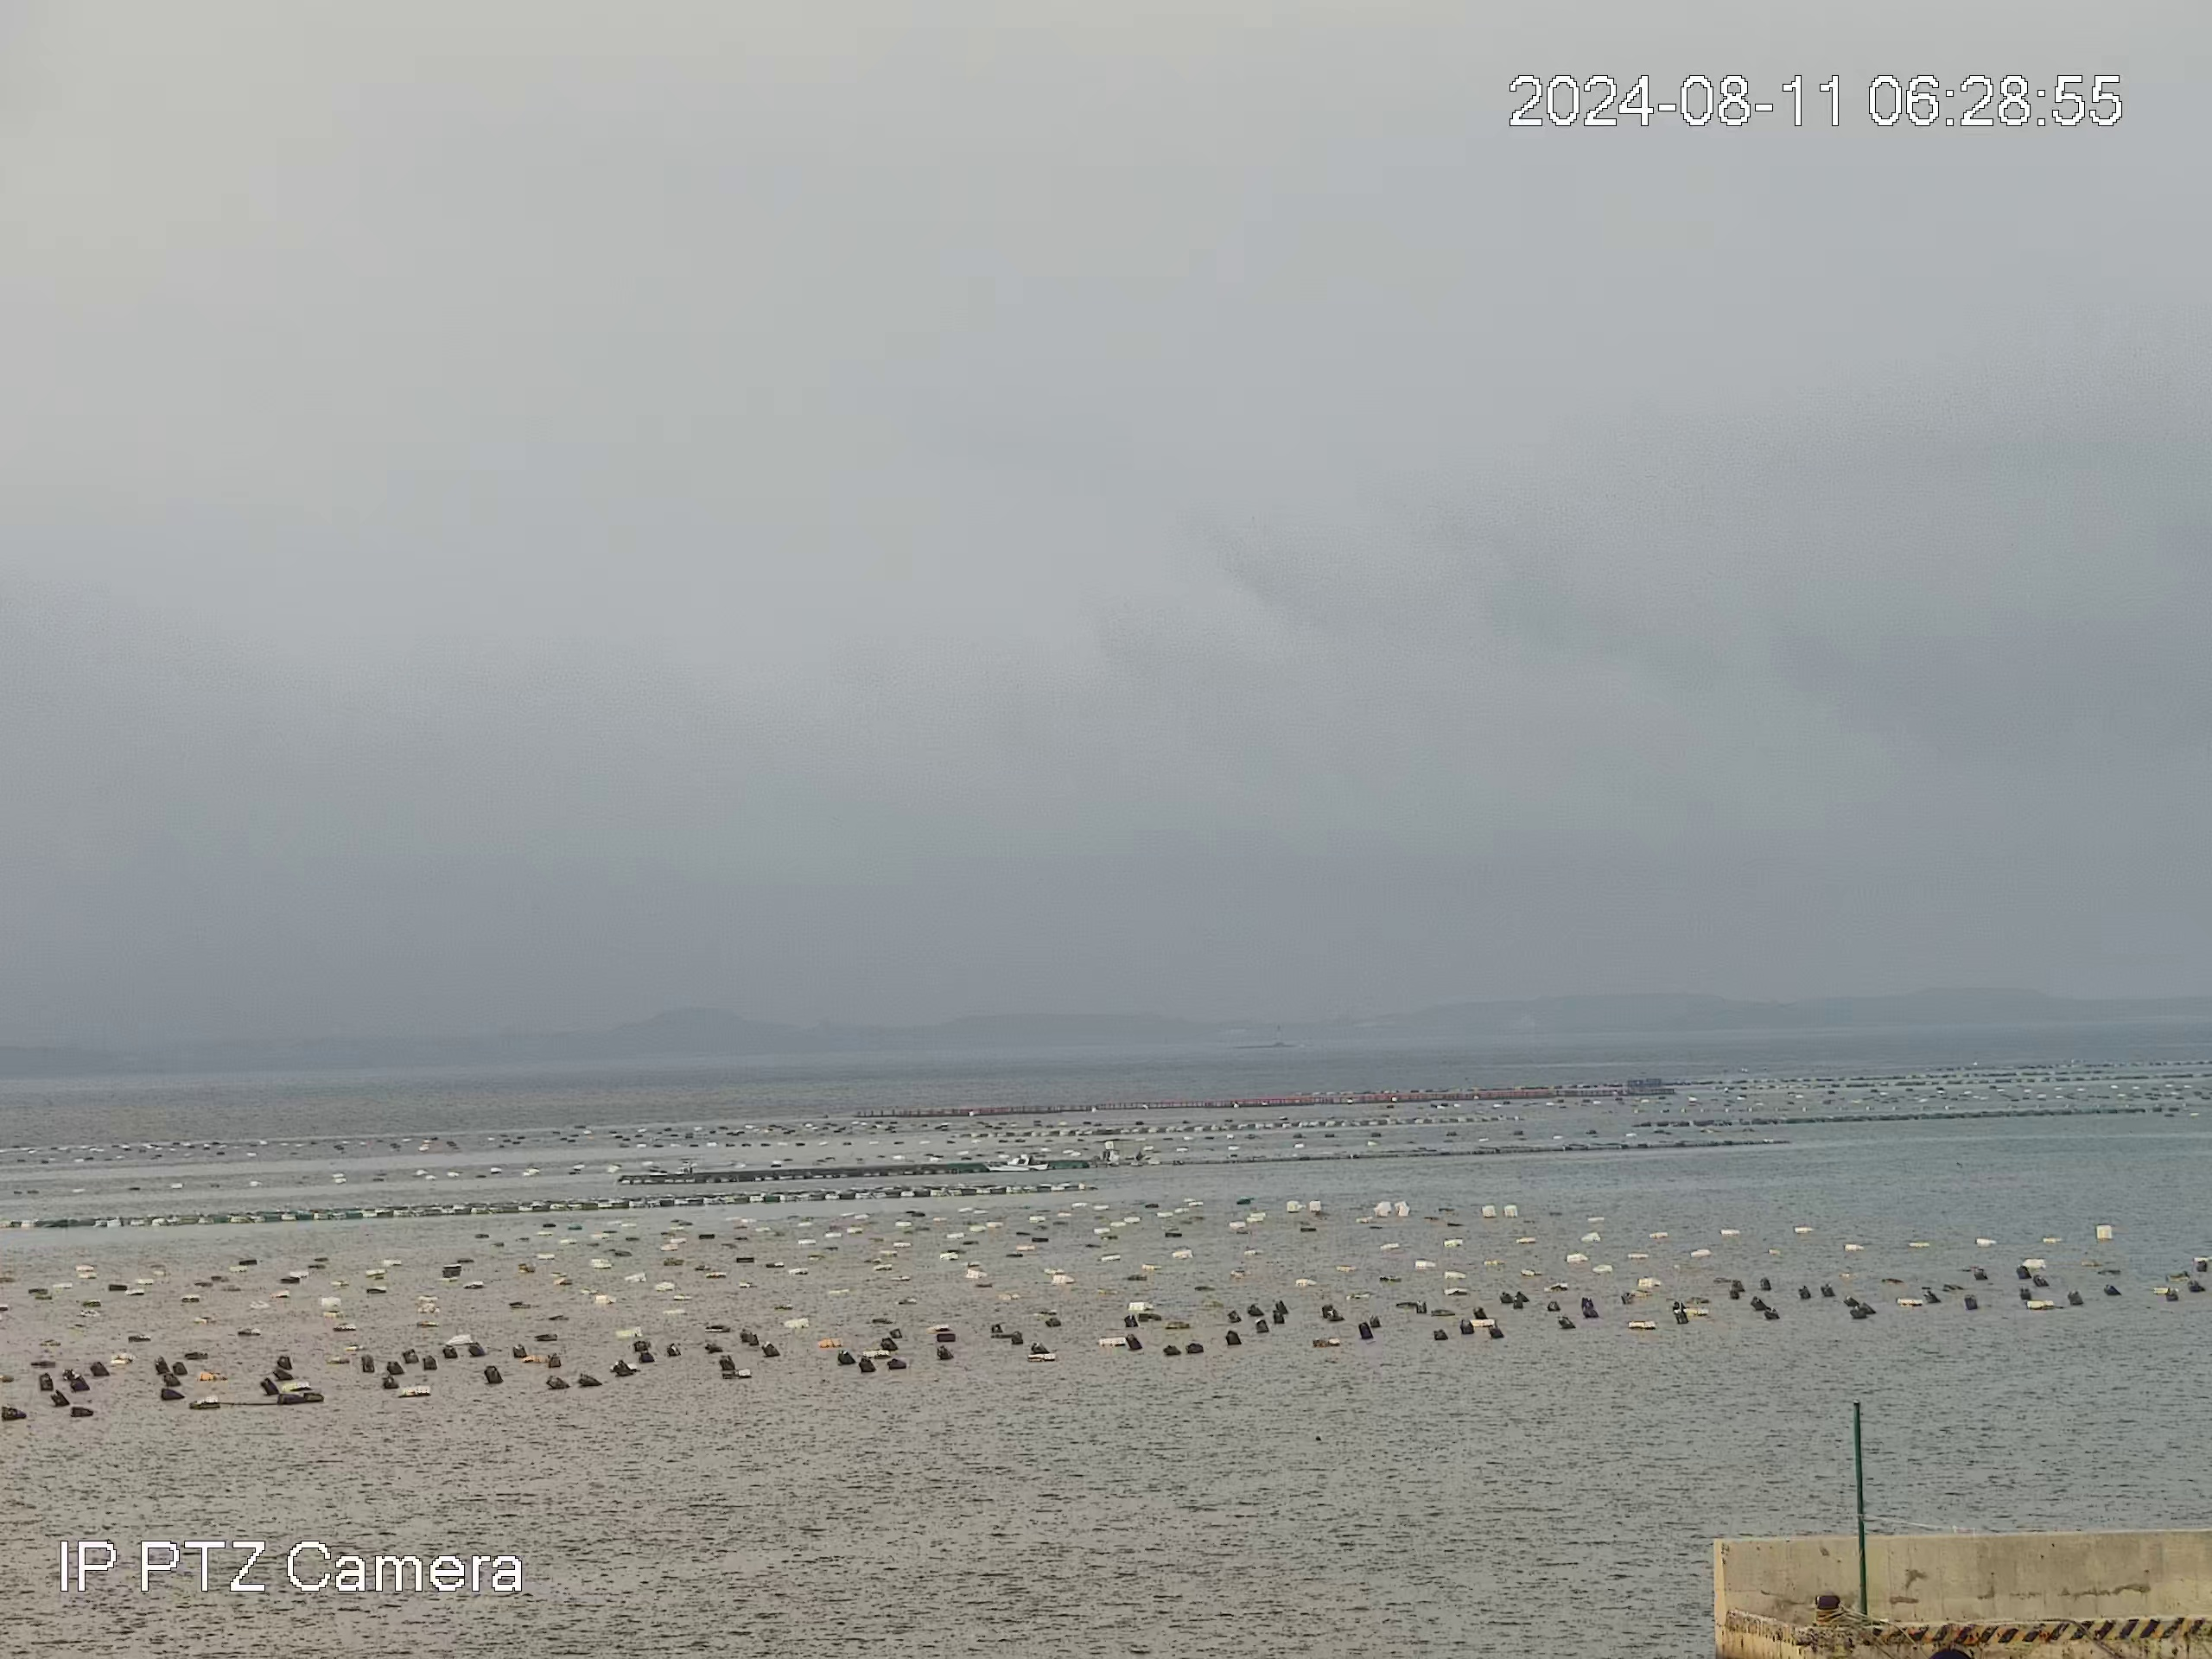boat: (981, 1151, 1051, 1173)
